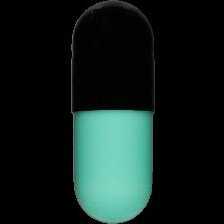55289-061: (0, 0, 224, 224)
